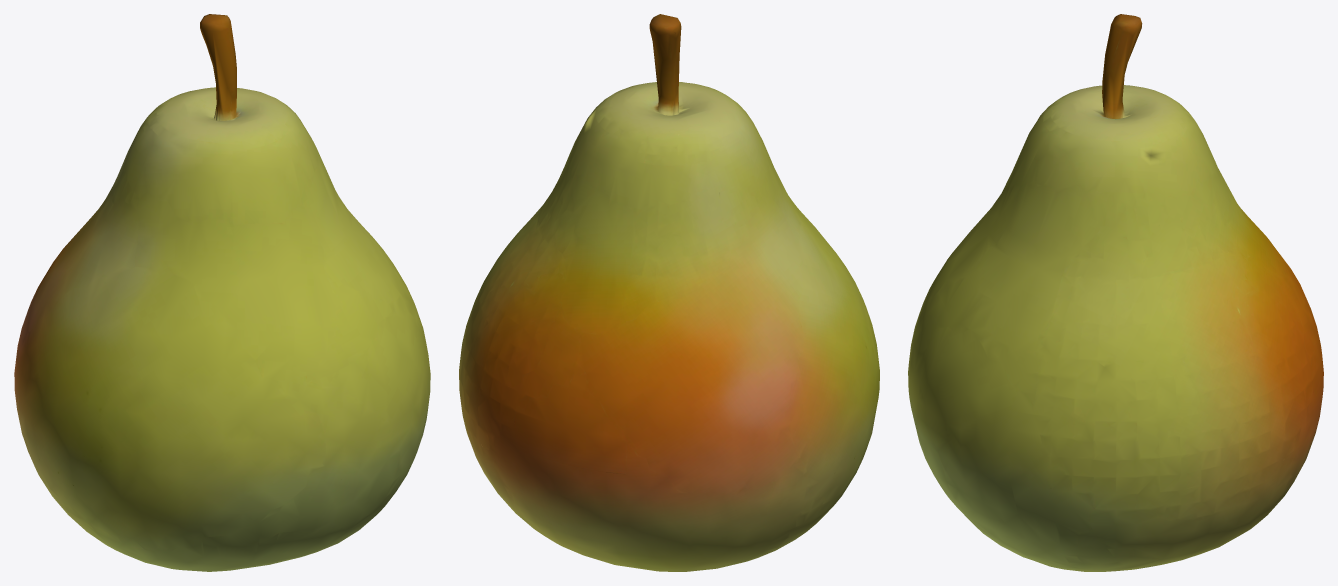
The model's file is pear.glb.
The picture shows the model from 3 angles, left to right: view 1: azimuth 30°, elevation 25°; view 2: azimuth 150°, elevation 25°; view 3: azimuth 270°, elevation 25°; orthographic projection.
Parts seen in each view (by area): view 1: material; view 2: material; view 3: material.
Part boxes in pixels (<box>): material: <box>14,14,430,571</box>; material: <box>459,14,879,571</box>; material: <box>908,14,1323,571</box>.
Bounding box in the file's own units: 0.8368 × 1.14 × 0.8343.
Materials: 1 (1 with a texture image).
